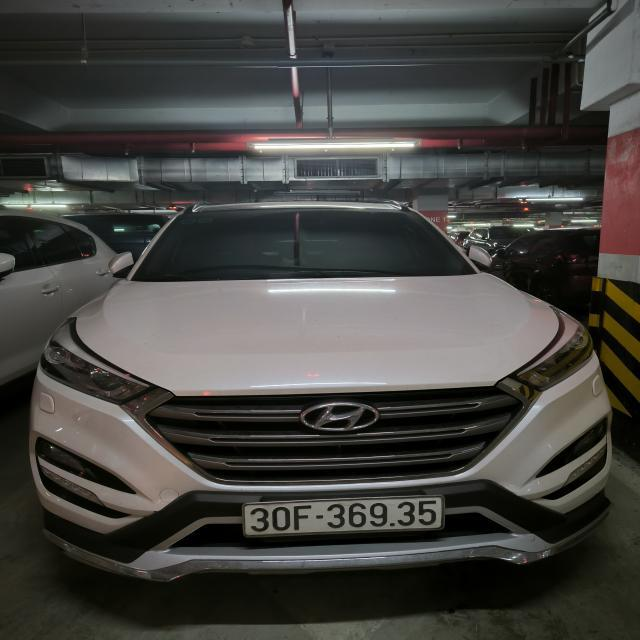license: (241, 494, 445, 538)
